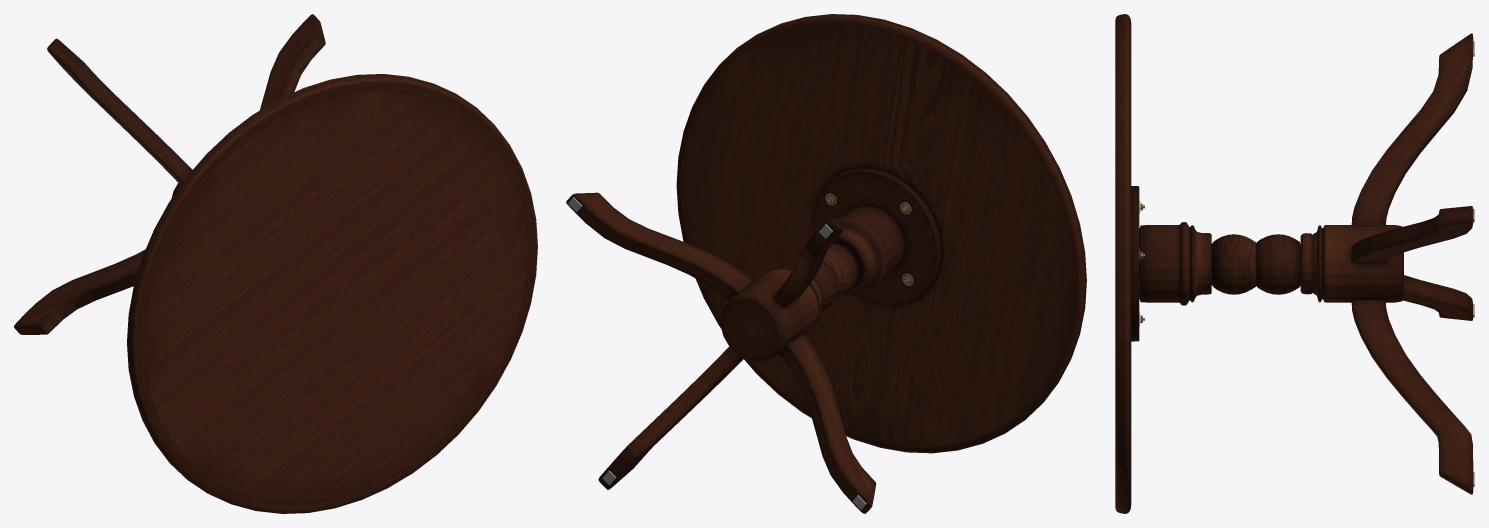
File: dining_table.obj
3 renders of one model, left to right at view 1: azimuth 30°, elevation 25°; view 2: azimuth 150°, elevation 25°; view 3: azimuth 270°, elevation 25°, orthographic. The views are drawn at different scales.
Bounding box in the file's own units: 1.06 × 1.06 × 0.76.
Materials: 1 (1 with a texture image).
